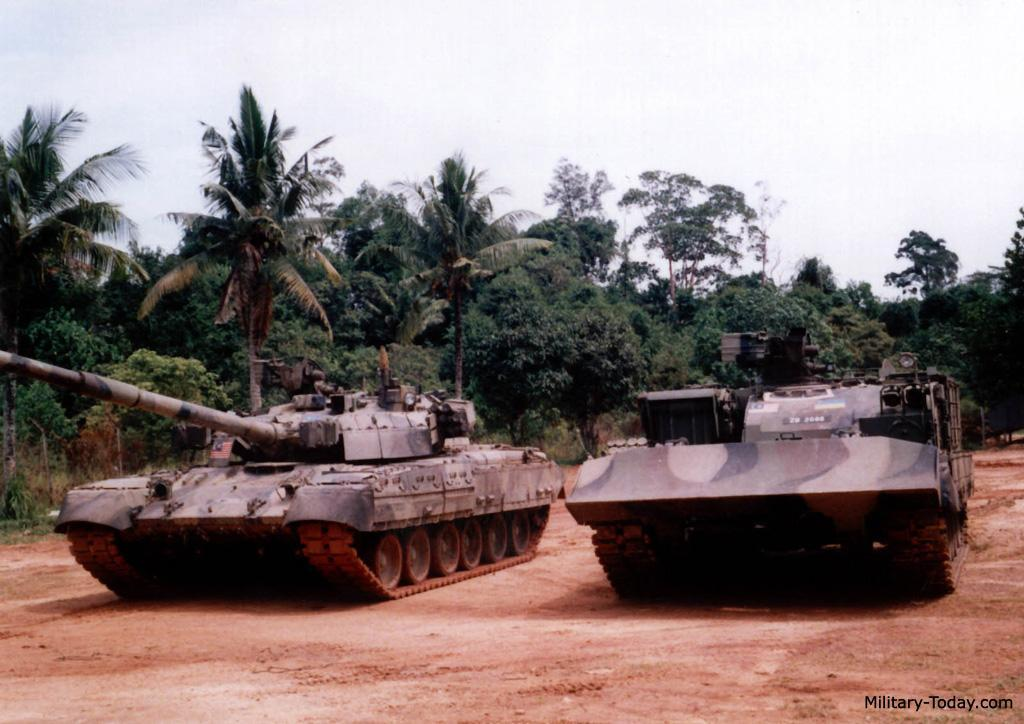tank: (0, 337, 571, 609), (562, 330, 980, 609)
